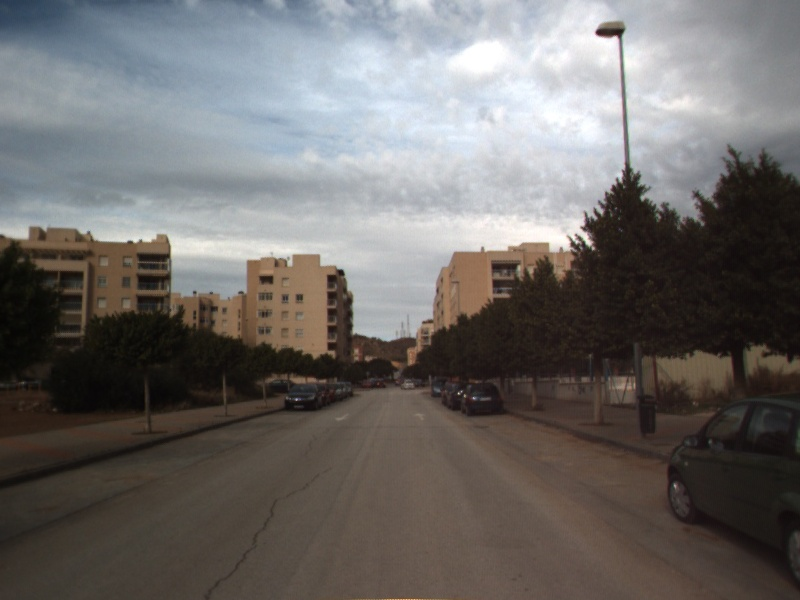STRAIGHT: (411, 411, 428, 422)
